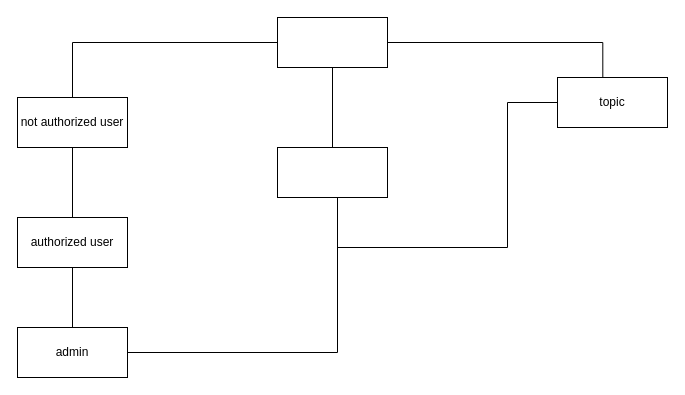
This 685x395 diagram has some shape labels left out. The centre of each missing label's shape, as x and y in pixels:
article: point (332, 172)
Web App: point (332, 42)
